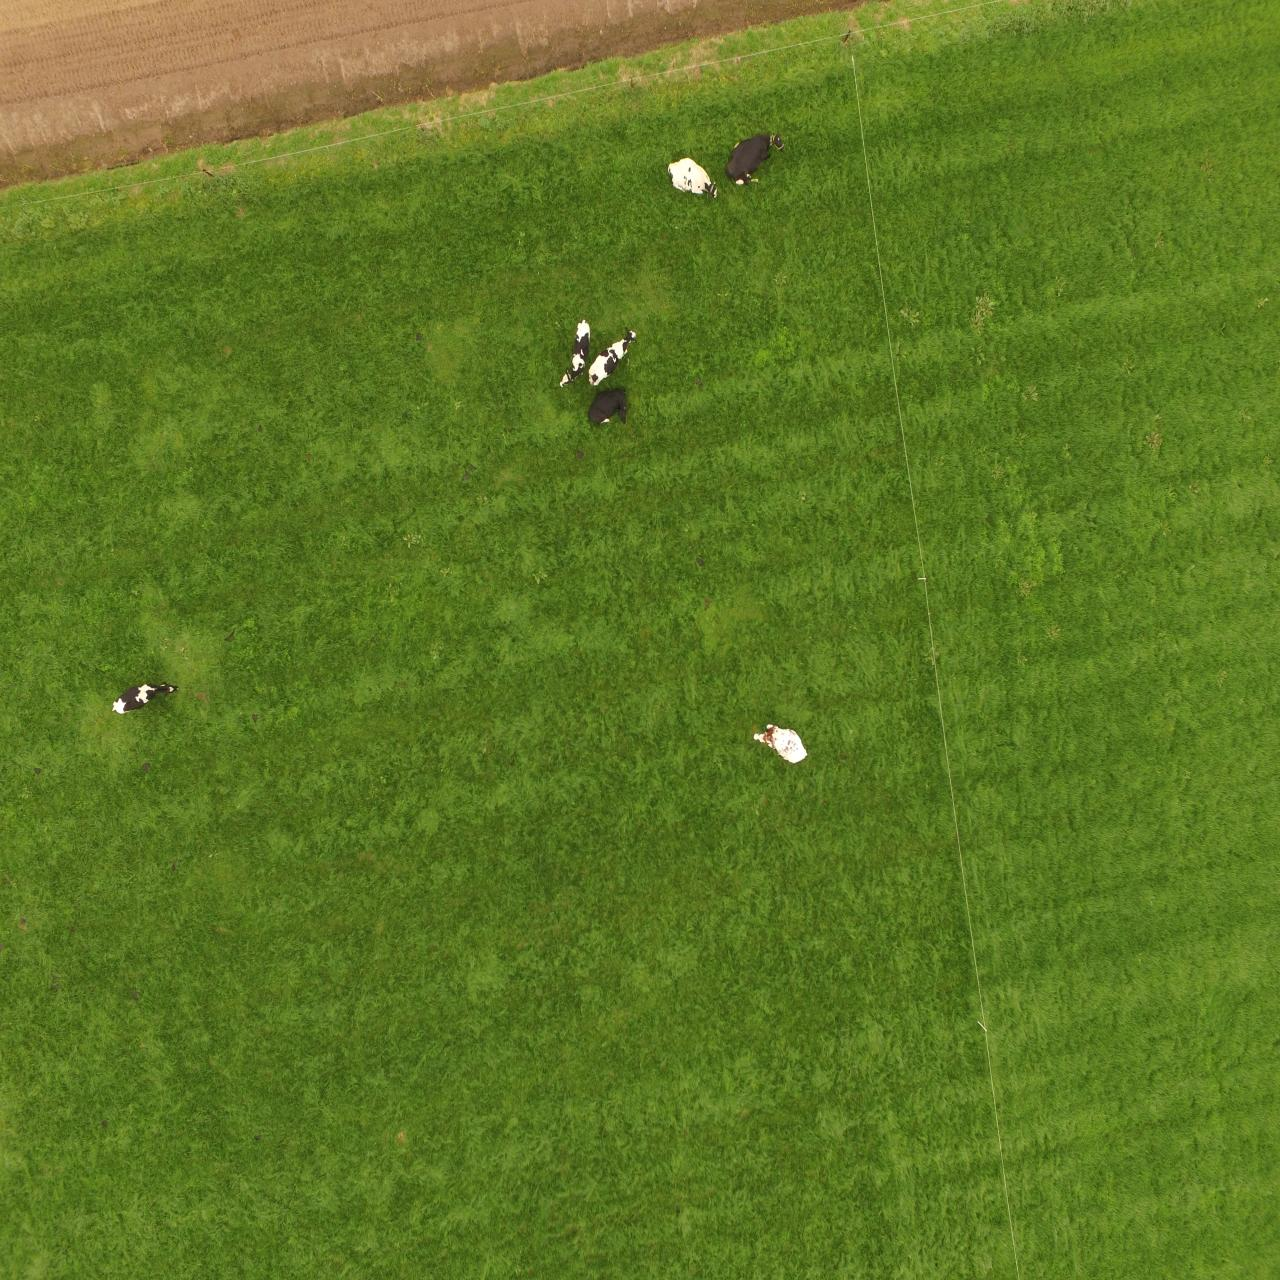cow: (726, 129, 784, 192), (103, 673, 182, 720), (583, 326, 639, 389), (749, 721, 809, 768), (666, 156, 722, 204), (558, 315, 592, 389), (585, 384, 631, 427)
